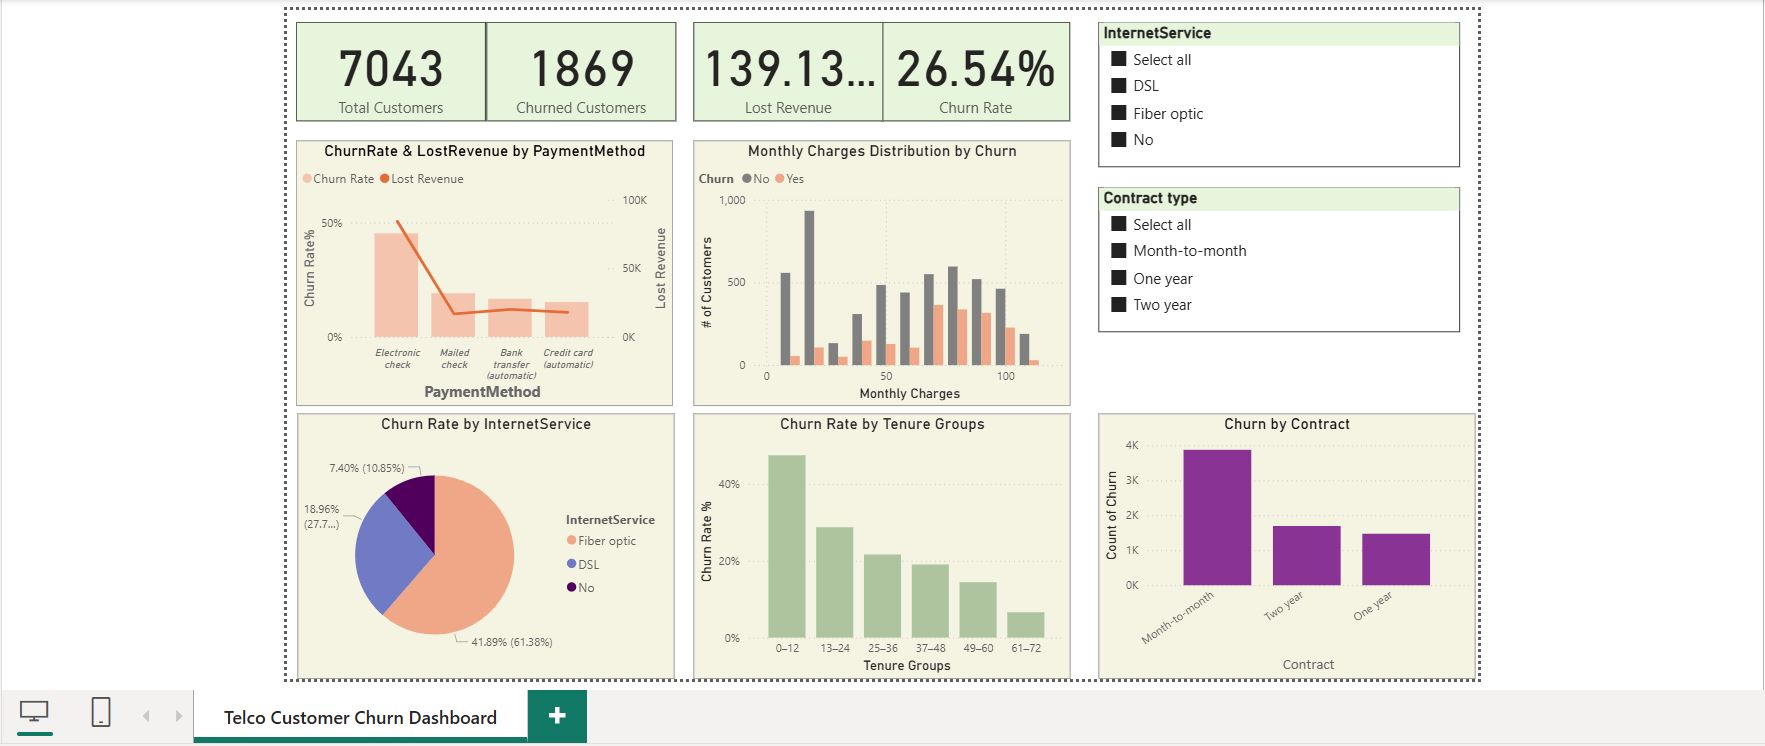

The page's visual inventory and layout, read from the dashboard file:
{"tool":"powerbi","page":{"name":"Telco Customer Churn Dashboard","canvas":[1280,720],"ordinal":0},"visuals":[{"type":"card","fields":{"Values":["Telco-Customer-Churn.Churned Customers"]},"box":[214.7,12.7,204,106.6],"z":0},{"type":"card","fields":{"Values":["Telco-Customer-Churn.Churn Rate"]},"box":[639.4,12.7,203.6,106.6],"z":1000},{"type":"clusteredColumnChart","title":"Churn by Contract","fields":{"Category":["Telco-Customer-Churn.Contract"],"Y":["CountNonNull(Telco-Customer-Churn.Churn)"]},"box":[872.9,433.4,405,285],"z":2000},{"type":"clusteredColumnChart","fields":{"Category":["Telco-Customer-Churn.Tenure Groups"],"Y":["Telco-Customer-Churn.Churn Rate"]},"box":[437.5,433.4,405.1,285],"z":3000},{"type":"pieChart","fields":{"Category":["Telco-Customer-Churn.InternetService"],"Y":["Telco-Customer-Churn.Churn Rate"]},"box":[11.1,434.2,405,285],"z":4000},{"type":"clusteredColumnChart","title":"Monthly Charges Distribution by Churn","fields":{"Category":["Telco-Customer-Churn.MonthlyCharges (bins)"],"Series":["Telco-Customer-Churn.Churn"],"Y":["Count(Telco-Customer-Churn.customerID)"]},"box":[437.5,139.7,405.1,285.6],"z":5000},{"type":"lineClusteredColumnComboChart","title":"ChurnRate & LostRevenue by PaymentMethod","fields":{"Category":["Telco-Customer-Churn.PaymentMethod"],"Y":["Telco-Customer-Churn.Churn Rate"],"Y2":["Telco-Customer-Churn.Lost Revenue"]},"box":[10.1,139.7,405,285.6],"z":6000},{"type":"card","fields":{"Values":["Telco-Customer-Churn.Lost Revenue"]},"box":[437.4,12.7,204,106.6],"z":7000},{"type":"card","fields":{"Values":["Telco-Customer-Churn.Total Customers"]},"box":[9.5,12.7,204,106.6],"z":8000},{"type":"slicer","title":"Contract type","fields":{"Values":["Telco-Customer-Churn.Contract"]},"box":[872.9,190.4,388.9,155.9],"z":8001},{"type":"slicer","title":"InternetService","fields":{"Values":["Telco-Customer-Churn.InternetService"]},"box":[872.9,12.2,388.9,155.9],"z":8002}]}

Visuals, with their boxes on the page's 1280x720 design canvas (x1, y1, x2, y2). These are canvas units, not pixel positions in the 1765x746 screenshot, which may show the page scaled, cropped or inside an application window:
card - Telco-Customer-Churn.Churned Customers: left=215, top=13, right=419, bottom=119
card - Telco-Customer-Churn.Churn Rate: left=639, top=13, right=843, bottom=119
"Churn by Contract" clusteredColumnChart: left=873, top=433, right=1278, bottom=718
clusteredColumnChart - Telco-Customer-Churn.Tenure Groups x Telco-Customer-Churn.Churn Rate: left=438, top=433, right=843, bottom=718
pieChart - Telco-Customer-Churn.InternetService x Telco-Customer-Churn.Churn Rate: left=11, top=434, right=416, bottom=719
"Monthly Charges Distribution by Churn" clusteredColumnChart: left=438, top=140, right=843, bottom=425
"ChurnRate & LostRevenue by PaymentMethod" lineClusteredColumnComboChart: left=10, top=140, right=415, bottom=425
card - Telco-Customer-Churn.Lost Revenue: left=437, top=13, right=641, bottom=119
card - Telco-Customer-Churn.Total Customers: left=10, top=13, right=214, bottom=119
"Contract type" slicer: left=873, top=190, right=1262, bottom=346
"InternetService" slicer: left=873, top=12, right=1262, bottom=168
